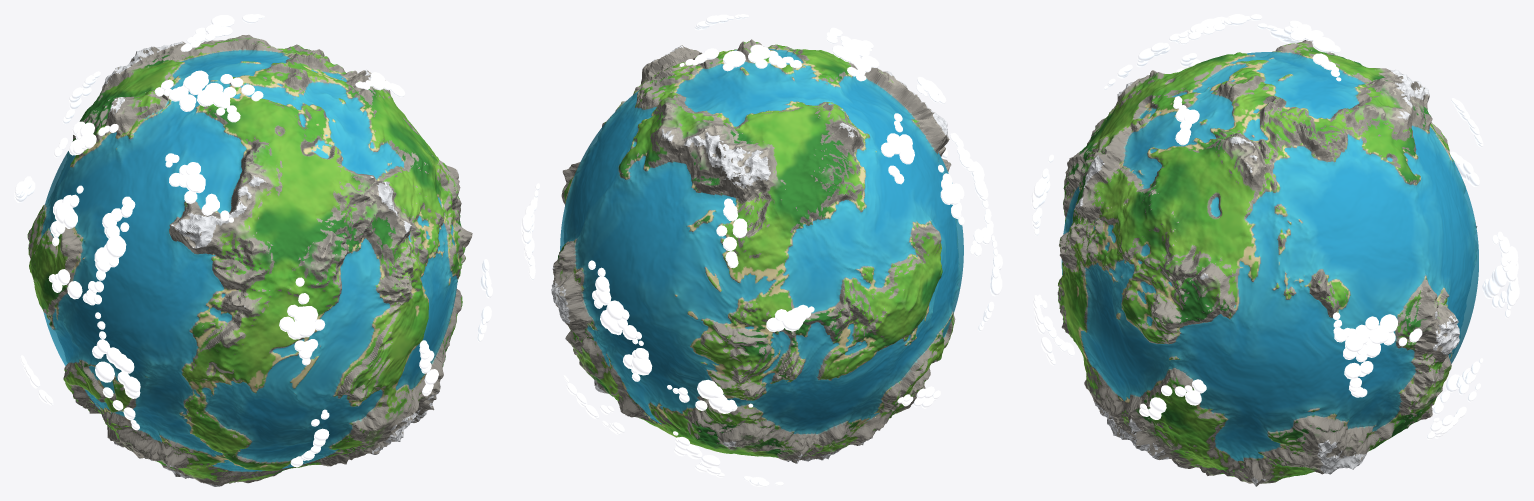
File: earthlike_seed7.glb
3 renders of one model, left to right at view 1: azimuth 30°, elevation 25°; view 2: azimuth 150°, elevation 25°; view 3: azimuth 270°, elevation 25°, orthographic. The views are drawn at different scales.
Parts seen in each view (by area): view 1: Ocean, Clouds, Terrain_ny_0_3-col, Terrain_ny_1_3-col, Terrain_ny_0_2-col, Terrain_ny_2_3-col, Terrain_pz_1_0-col, Terrain_ny_2_2-col, Terrain_nx_2_0-col, Terrain_nx_3_0-col, Terrain_ny_0_1-col, Terrain_ny_1_1-col (+42 smaller); view 2: Ocean, Clouds, Terrain_pz_0_3-col, Terrain_py_3_0-col, Terrain_nx_2_3-col, Terrain_nx_3_3-col, Terrain_py_2_1-col, Terrain_py_2_0-col, Terrain_pz_1_3-col, Terrain_py_3_1-col, Terrain_py_1_0-col, Terrain_py_3_2-col (+37 smaller); view 3: Ocean, Clouds, Terrain_px_1_3-col, Terrain_px_2_3-col, Terrain_px_0_3-col, Terrain_px_1_2-col, Terrain_pz_3_2-col, Terrain_pz_3_1-col, Terrain_px_2_2-col, Terrain_px_0_2-col, Terrain_pz_3_3-col, Terrain_px_3_3-col (+38 smaller).
Part boxes in pixels (bbox=[...]): Ocean: bbox=[41, 50, 457, 471]; Clouds: bbox=[14, 14, 492, 467]; Terrain_ny_0_3-col: bbox=[195, 193, 279, 286]; Terrain_ny_1_3-col: bbox=[267, 178, 346, 279]; Terrain_ny_0_2-col: bbox=[193, 280, 282, 353]; Terrain_ny_2_3-col: bbox=[324, 171, 409, 265]; Terrain_pz_1_0-col: bbox=[223, 107, 323, 193]; Terrain_ny_2_2-col: bbox=[344, 248, 413, 335]; Terrain_nx_2_0-col: bbox=[119, 262, 197, 345]; Terrain_nx_3_0-col: bbox=[128, 187, 199, 286]; Terrain_ny_0_1-col: bbox=[193, 346, 281, 404]; Terrain_ny_1_1-col: bbox=[278, 336, 354, 404]; Ocean: bbox=[560, 49, 963, 434]; Clouds: bbox=[521, 14, 1002, 486]; Terrain_pz_0_3-col: bbox=[743, 127, 851, 211]; Terrain_py_3_0-col: bbox=[734, 183, 810, 275]; Terrain_nx_2_3-col: bbox=[811, 251, 895, 331]; Terrain_nx_3_3-col: bbox=[805, 176, 878, 275]; Terrain_py_2_1-col: bbox=[663, 255, 732, 337]; Terrain_py_2_0-col: bbox=[728, 268, 815, 338]; Terrain_pz_1_3-col: bbox=[690, 109, 786, 183]; Terrain_py_3_1-col: bbox=[671, 172, 742, 267]; Terrain_py_1_0-col: bbox=[728, 332, 813, 396]; Terrain_py_3_2-col: bbox=[620, 164, 690, 254]; Ocean: bbox=[1061, 52, 1478, 460]; Clouds: bbox=[1031, 14, 1519, 474]; Terrain_px_1_3-col: bbox=[1196, 186, 1270, 276]; Terrain_px_2_3-col: bbox=[1270, 188, 1339, 276]; Terrain_px_0_3-col: bbox=[1128, 191, 1208, 274]; Terrain_px_1_2-col: bbox=[1194, 275, 1270, 346]; Terrain_pz_3_2-col: bbox=[1270, 110, 1342, 193]; Terrain_pz_3_1-col: bbox=[1200, 107, 1270, 191]; Terrain_px_2_2-col: bbox=[1270, 274, 1343, 345]; Terrain_px_0_2-col: bbox=[1121, 266, 1198, 340]; Terrain_pz_3_3-col: bbox=[1329, 122, 1409, 203]; Terrain_px_3_3-col: bbox=[1329, 195, 1406, 273].
Bounding box in the file's own units: 1146 × 1173 × 1170.
